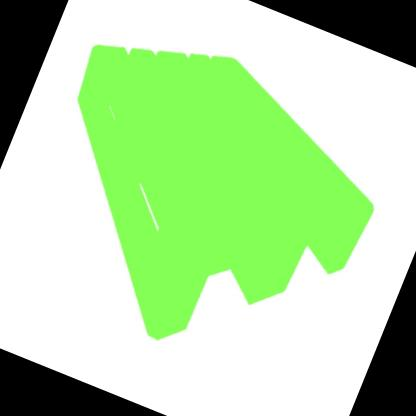BoxFace: (71, 42, 378, 350)
